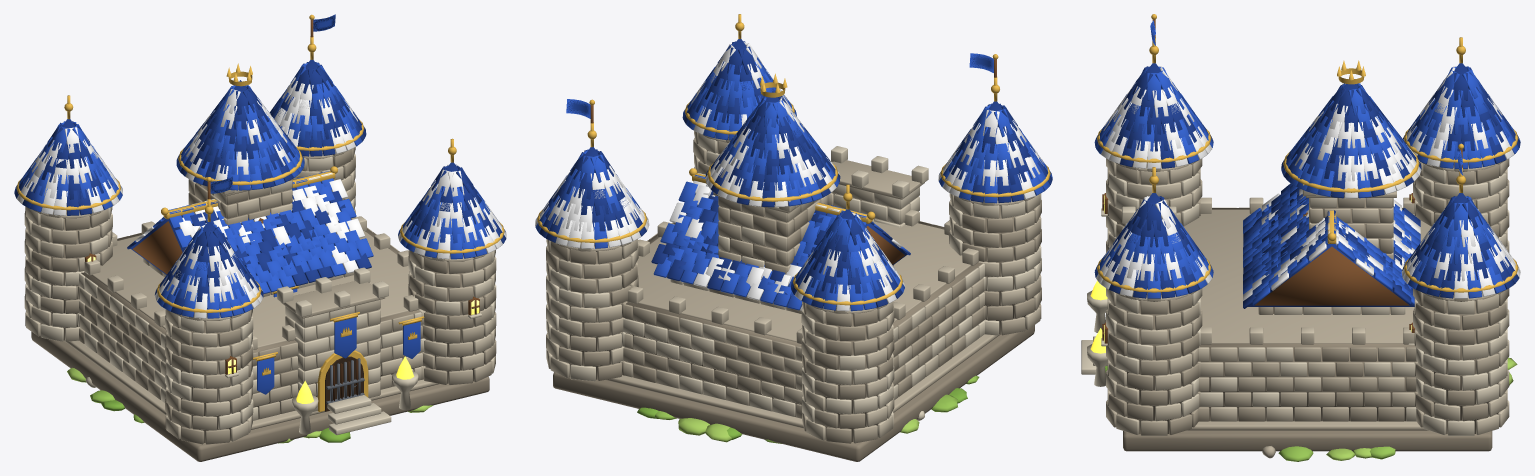
The picture shows the model from 3 angles, left to right: view 1: azimuth 30°, elevation 25°; view 2: azimuth 150°, elevation 25°; view 3: azimuth 270°, elevation 25°; orthographic projection. The views are drawn at different scales.
Visible parts, largest first — view 1: root_matte#b8ad98, root_team, root_matte#c9bea8, root_team_dark, root_matte#d6ccb6, root_team_light, root_matte#8f8472, root_matte#a99e8a, root_gold#f0bd4c, root_matte#7a4e2a, gateDoorSurround, root_metal#5e646c (+3 smaller); view 2: root_matte#b8ad98, root_team, root_matte#c9bea8, root_matte#d6ccb6, root_team_dark, root_matte#a99e8a, root_matte#8f8472, root_team_light, root_gold#f0bd4c, root_matte#a8d060, root_matte#7a4e2a, root_matte#94c252; view 3: root_matte#b8ad98, root_team, root_matte#c9bea8, root_team_dark, root_team_light, root_matte#d6ccb6, root_matte#8f8472, root_matte#a99e8a, root_matte#7a4e2a, root_gold#f0bd4c, root_matte#94c252, root_matte#a8d060 (+1 smaller).
Boxes of the visible parts, x1,y1,x2,y2 form: root_matte#b8ad98: (25, 147, 495, 430); root_team: (14, 14, 490, 394); root_matte#c9bea8: (24, 151, 496, 441); root_team_dark: (14, 59, 506, 314); root_matte#d6ccb6: (25, 156, 496, 434); root_team_light: (17, 77, 506, 318); root_matte#8f8472: (31, 151, 489, 461); root_matte#a99e8a: (25, 149, 496, 444); root_gold#f0bd4c: (16, 14, 504, 375); root_matte#7a4e2a: (84, 20, 479, 374); gateDoorSurround: (317, 350, 368, 411); root_metal#5e646c: (326, 358, 364, 404); root_matte#b8ad98: (546, 134, 1041, 443); root_team: (535, 53, 1052, 311); root_matte#c9bea8: (546, 133, 1040, 440); root_matte#d6ccb6: (546, 133, 1041, 427); root_team_dark: (539, 39, 1052, 308); root_matte#a99e8a: (546, 131, 1041, 443); root_matte#8f8472: (552, 142, 1034, 461); root_team_light: (535, 42, 1043, 311); root_gold#f0bd4c: (537, 14, 1050, 305); root_matte#a8d060: (678, 418, 919, 442); root_matte#7a4e2a: (590, 59, 996, 264); root_matte#94c252: (655, 375, 979, 443); root_matte#b8ad98: (1106, 162, 1509, 458); root_team: (1094, 20, 1520, 305); root_matte#c9bea8: (1106, 158, 1509, 435); root_team_dark: (1108, 63, 1520, 308); root_team_light: (1096, 66, 1520, 300); root_matte#d6ccb6: (1081, 164, 1509, 435); root_matte#8f8472: (1117, 164, 1498, 451); root_matte#a99e8a: (1107, 164, 1509, 434); root_matte#7a4e2a: (1102, 19, 1462, 343); root_gold#f0bd4c: (1097, 14, 1518, 292); root_matte#94c252: (1278, 446, 1395, 461); root_matte#a8d060: (1326, 357, 1517, 460).
Bounding box in the file's own units: 4.38 × 3.59 × 4.52.
